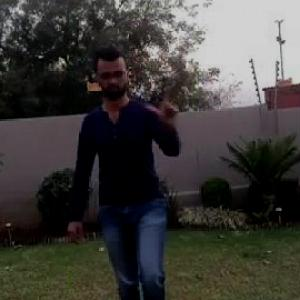land_hand: (148, 87, 182, 126)
